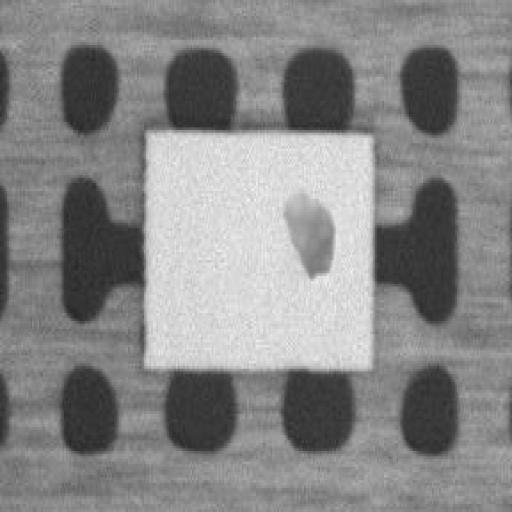DIE_INK: (276, 183, 336, 289)
